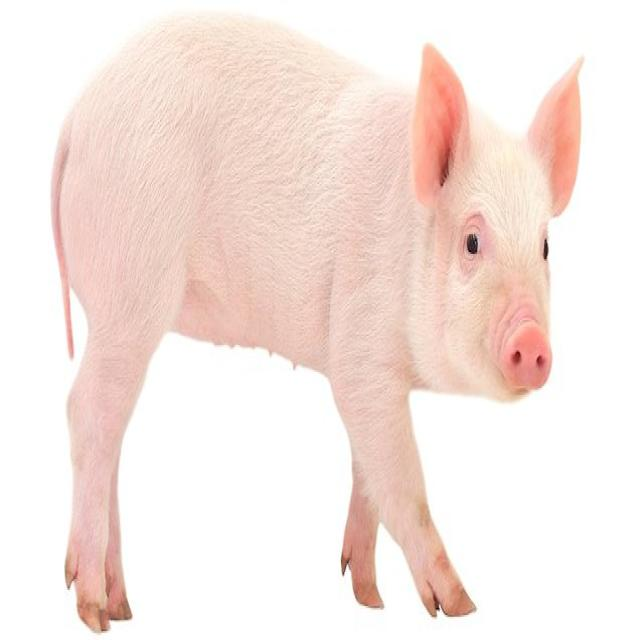Pig: (37, 11, 591, 634)
